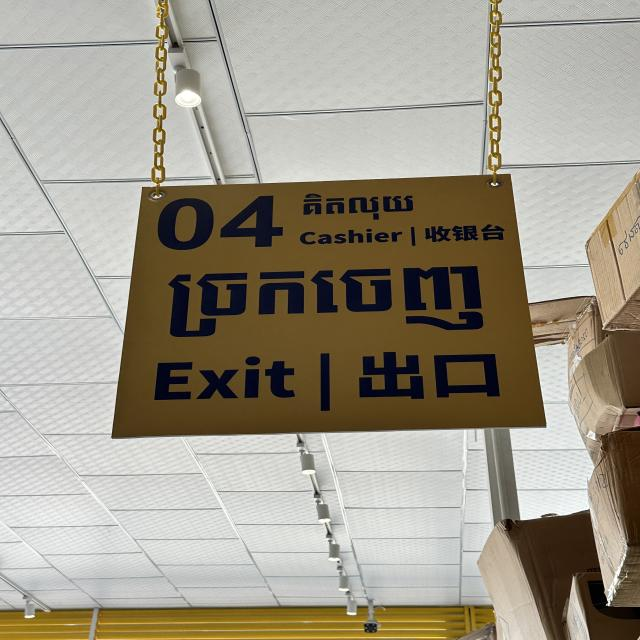Yolov11kh: (148, 260, 495, 343), (149, 184, 424, 257)
